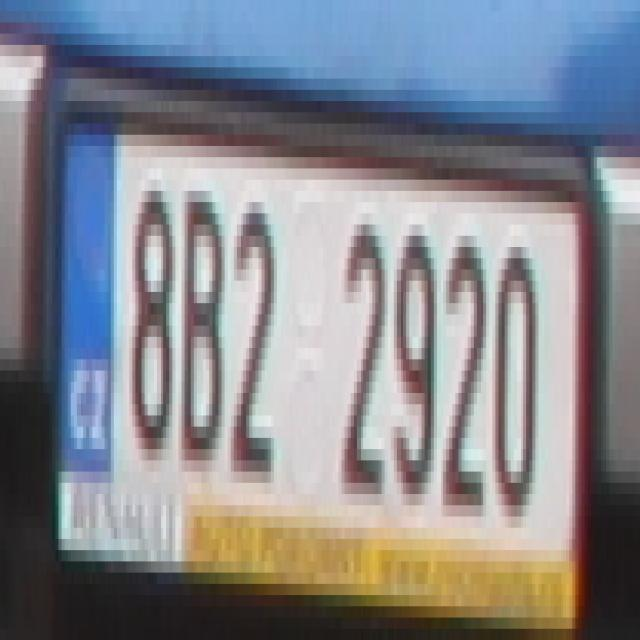0: (492, 214, 532, 506)
2: (335, 213, 388, 494), (437, 213, 486, 494), (231, 191, 277, 483)
8: (132, 180, 172, 450)
9: (391, 225, 434, 494)
B: (182, 190, 224, 460)
